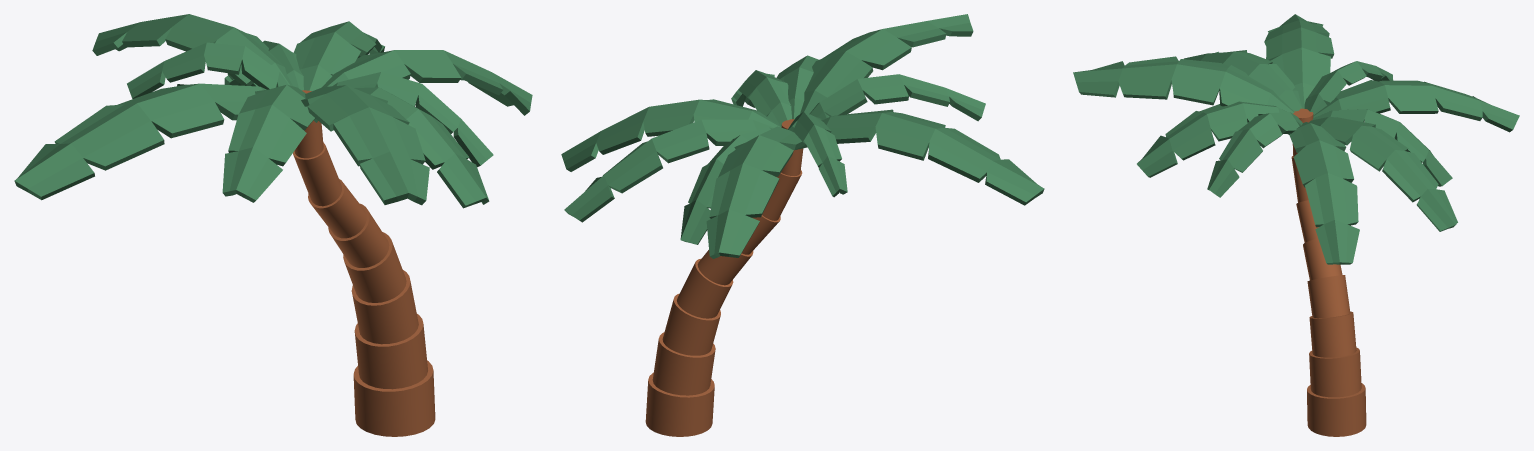
File: palmtree3.fbx
3 views of the same model, side by side, from view 1: azimuth 30°, elevation 25°; view 2: azimuth 150°, elevation 25°; view 3: azimuth 270°, elevation 25° (orthographic). The views are drawn at different scales.
Visible parts, largest first — view 1: Leaves, Cylinder; view 2: Leaves, Cylinder; view 3: Leaves, Cylinder.
Part boxes in pixels (x1=…): Leaves: x1=14, y1=14, x2=532, y2=208; Cylinder: x1=293, y1=90, x2=435, y2=436; Leaves: x1=561, y1=14, x2=1044, y2=258; Cylinder: x1=645, y1=119, x2=803, y2=436; Leaves: x1=1073, y1=14, x2=1519, y2=264; Cylinder: x1=1291, y1=108, x2=1366, y2=436.
Size of the model in its own units: 1582 by 1173 by 1519.
